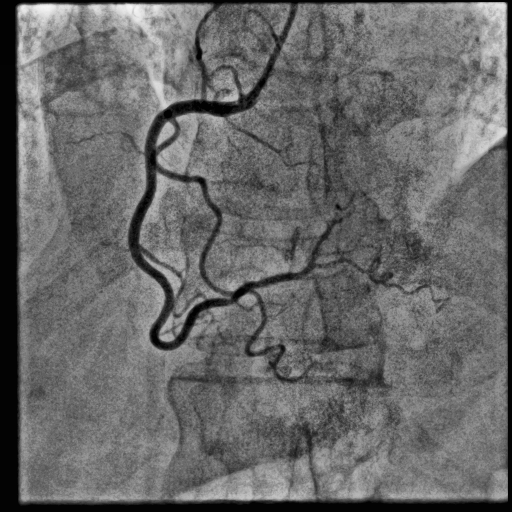pborca: (308, 190, 366, 263)
pda: (315, 255, 452, 301)
rca: (128, 94, 315, 351)
